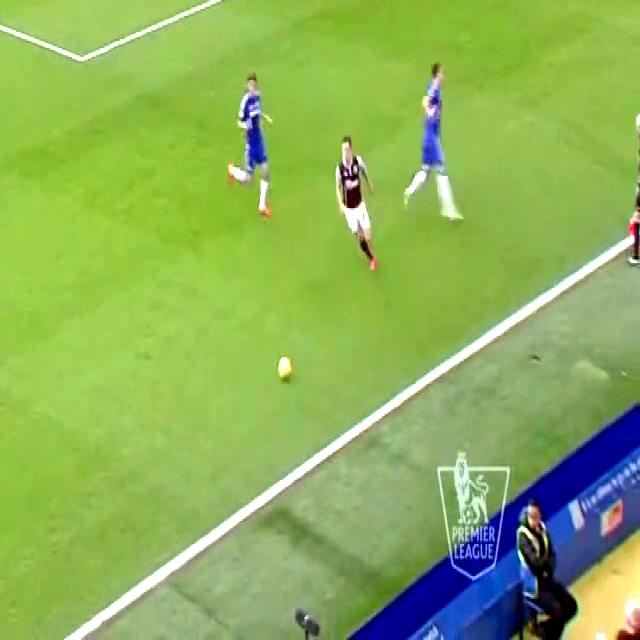ball: (272, 350, 294, 398)
soccer-player: (402, 46, 467, 234), (225, 54, 277, 216), (332, 122, 384, 275)
